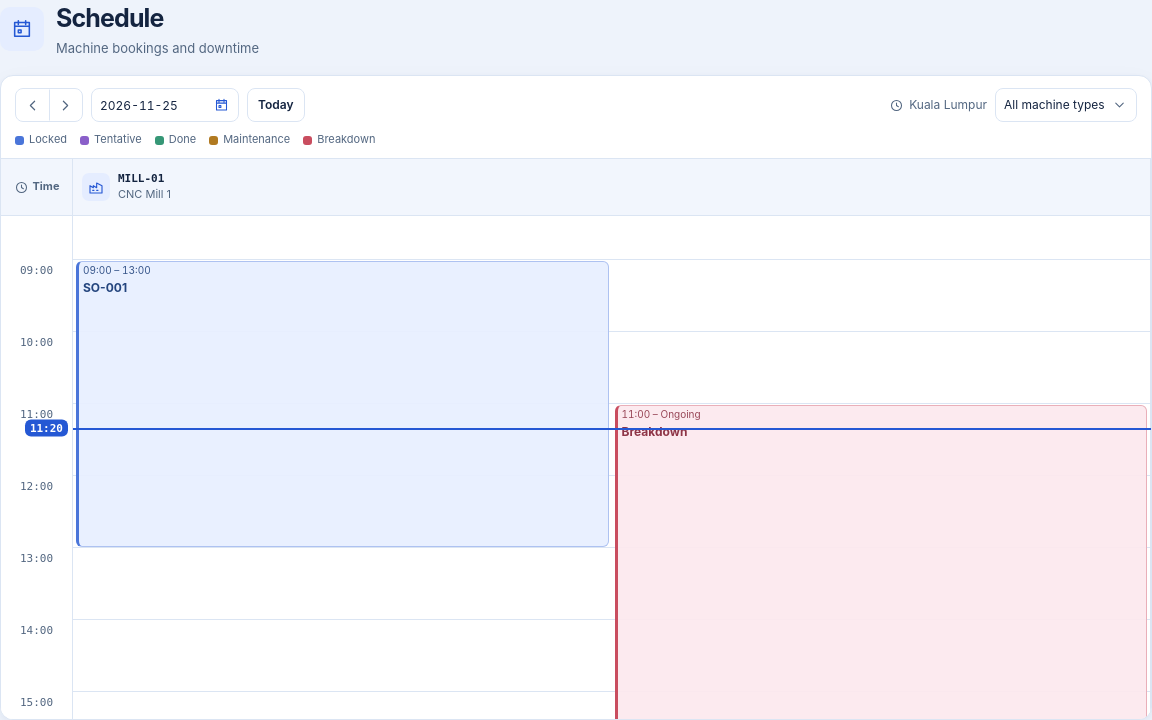
schedule day layout › loads the selected date and opens the booking details with a link to the order
The image size is (1152, 720).
(page scrolled)
Click the button "09:00 – 13:00 SO-001" at (342, 404), box x1=73 y1=260 x2=612 y2=548
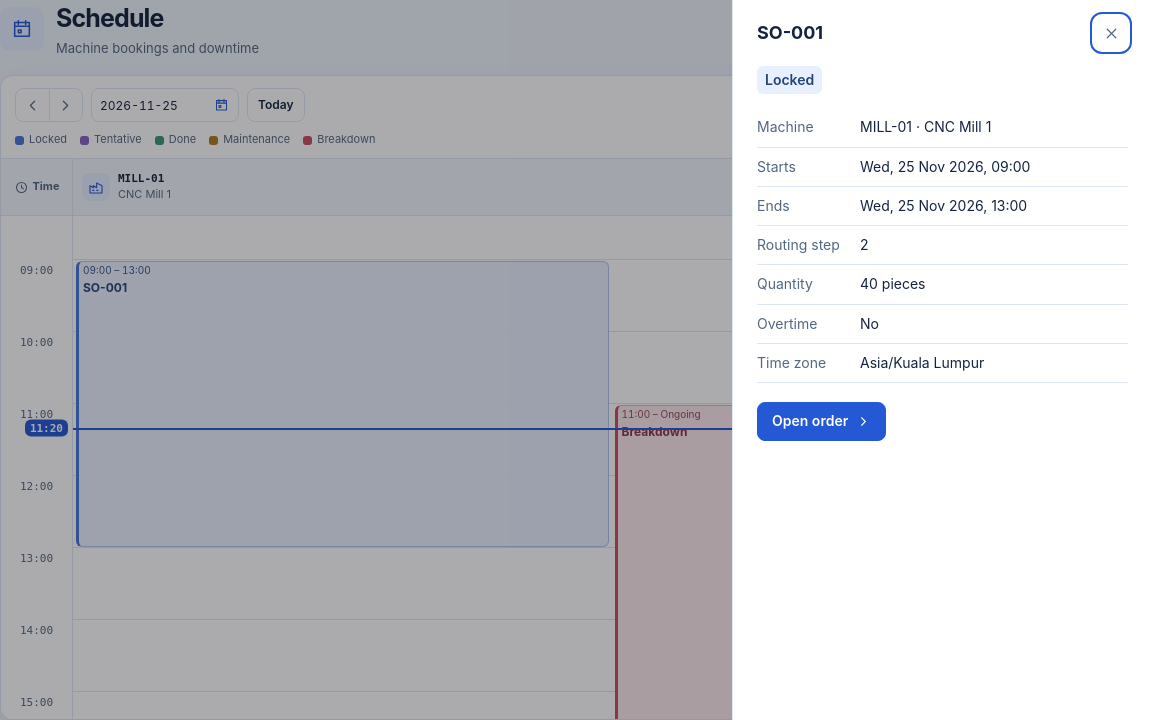
Now the text "40 pieces" is shown, box x1=860 y1=276 x2=926 y2=292
Click the button named "Close" at (1111, 33), box x1=1094 y1=16 x2=1128 y2=50
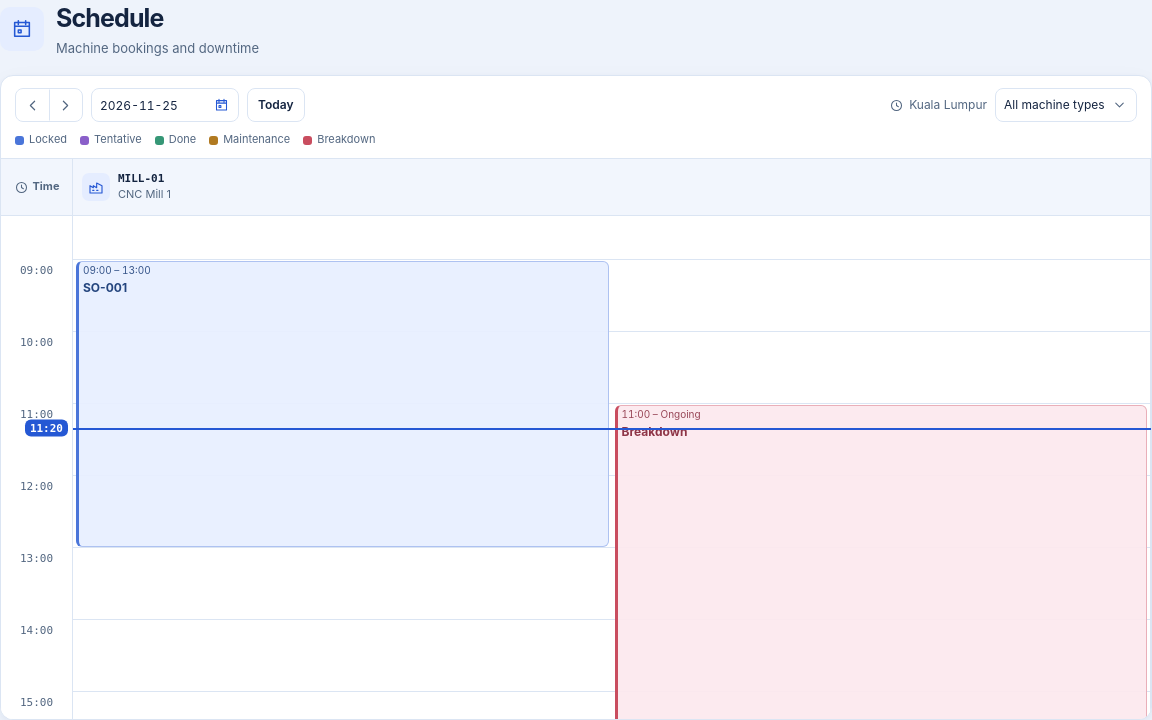
Click the button named "Next day" at (66, 105), box x1=49 y1=89 x2=82 y2=121
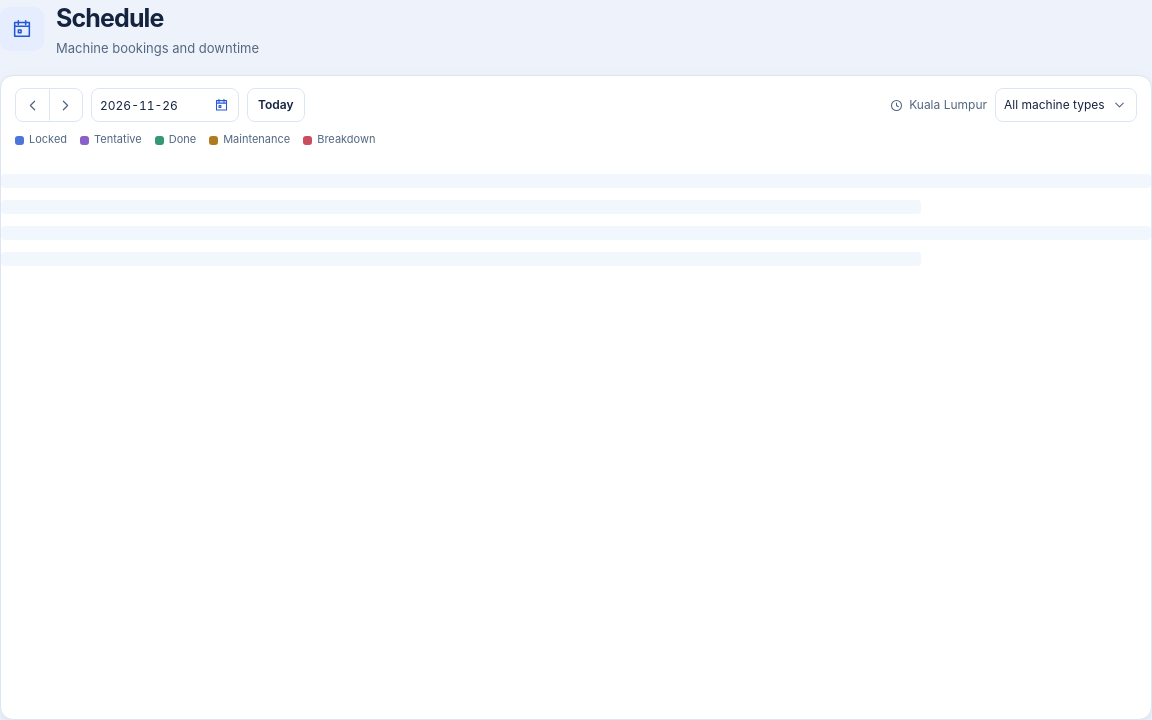
Now the field named "Date" holds "2026-11-26", box x1=91 y1=88 x2=239 y2=122
Click the button "Today" at (276, 105), box x1=247 y1=88 x2=304 y2=122
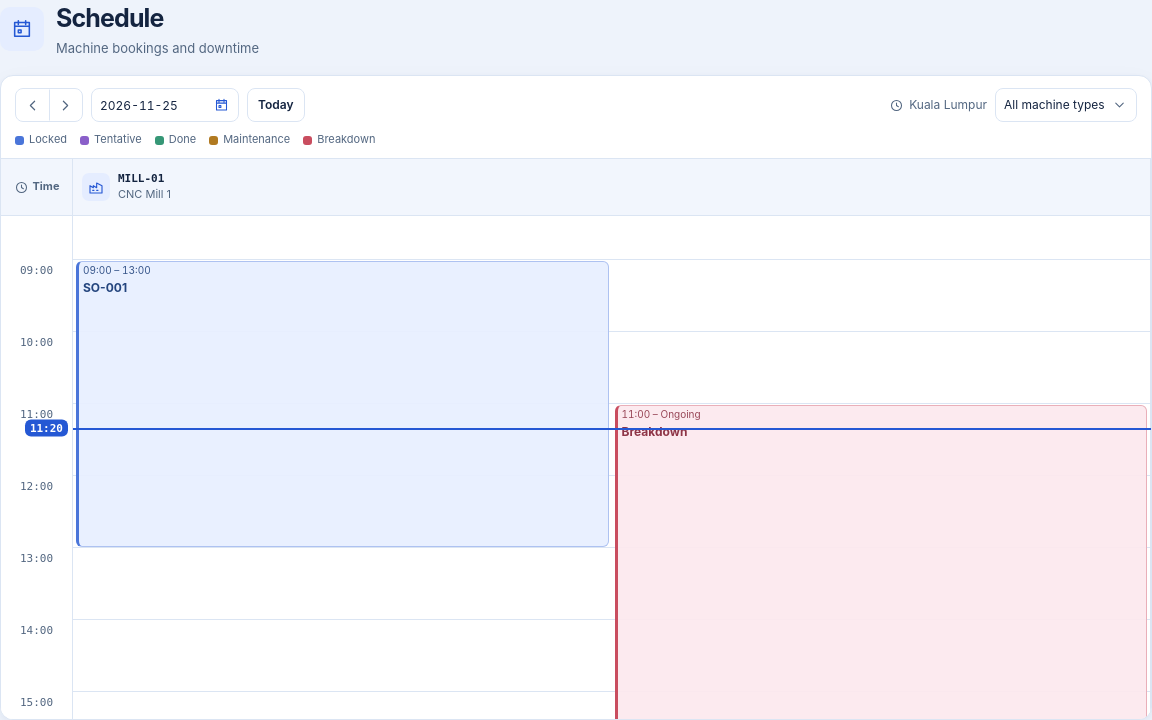
Now the text named "Current time 11:20" is shown, box x1=25 y1=420 x2=68 y2=436
